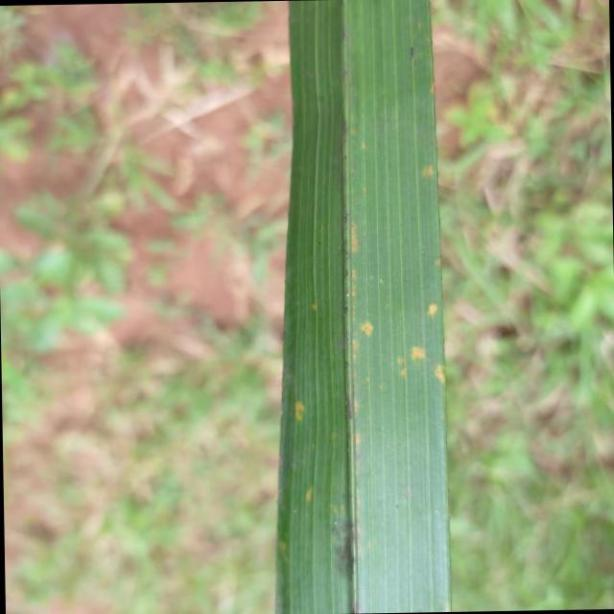Kalium: (272, 0, 452, 614)
